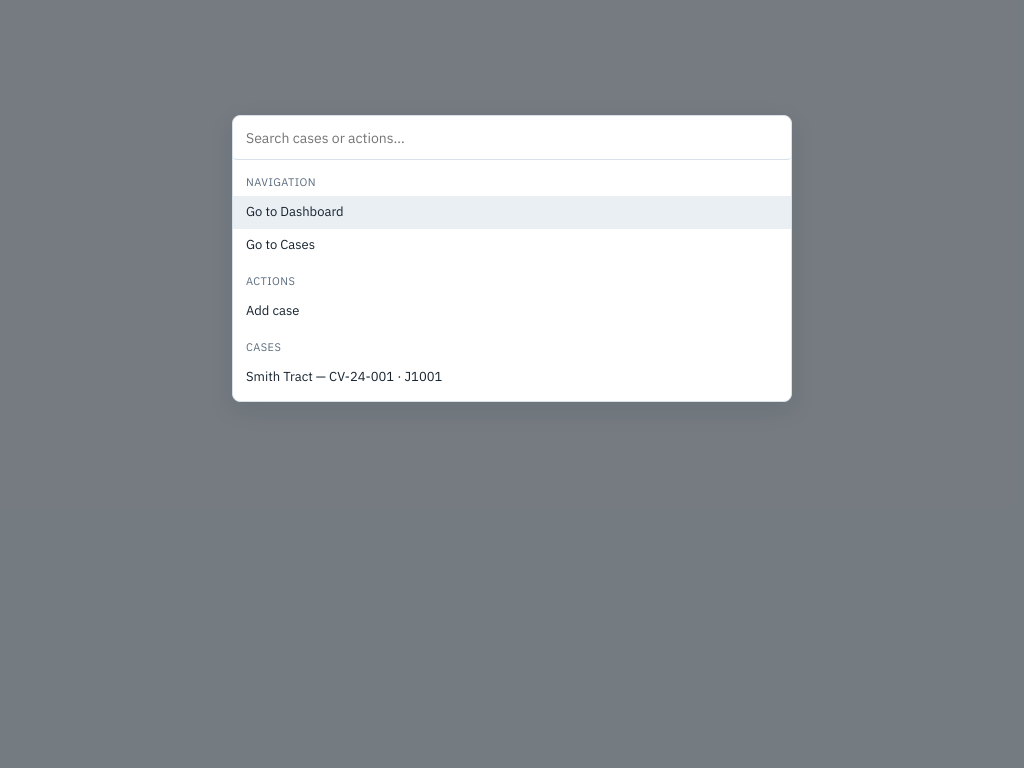
Test: CommandPalette › filters items by a case-insensitive substring match and highlights the match
This screenshot has width=1024, height=768.
Type "dash" into the dropdown. click: (512, 138)
box: [233,116,791,160]
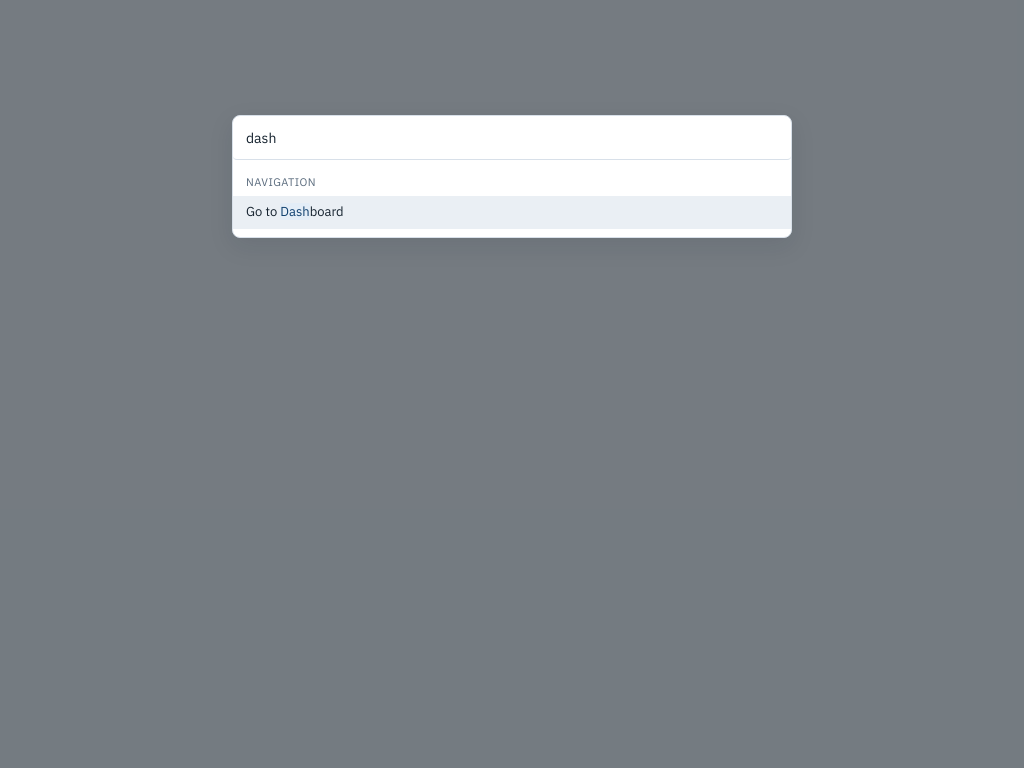
Expected: the option "Go to Dashboard" is shown, [233,196,791,229]
Result: the option "Go to Cases" is gone
Result: the option "Add case" is gone
